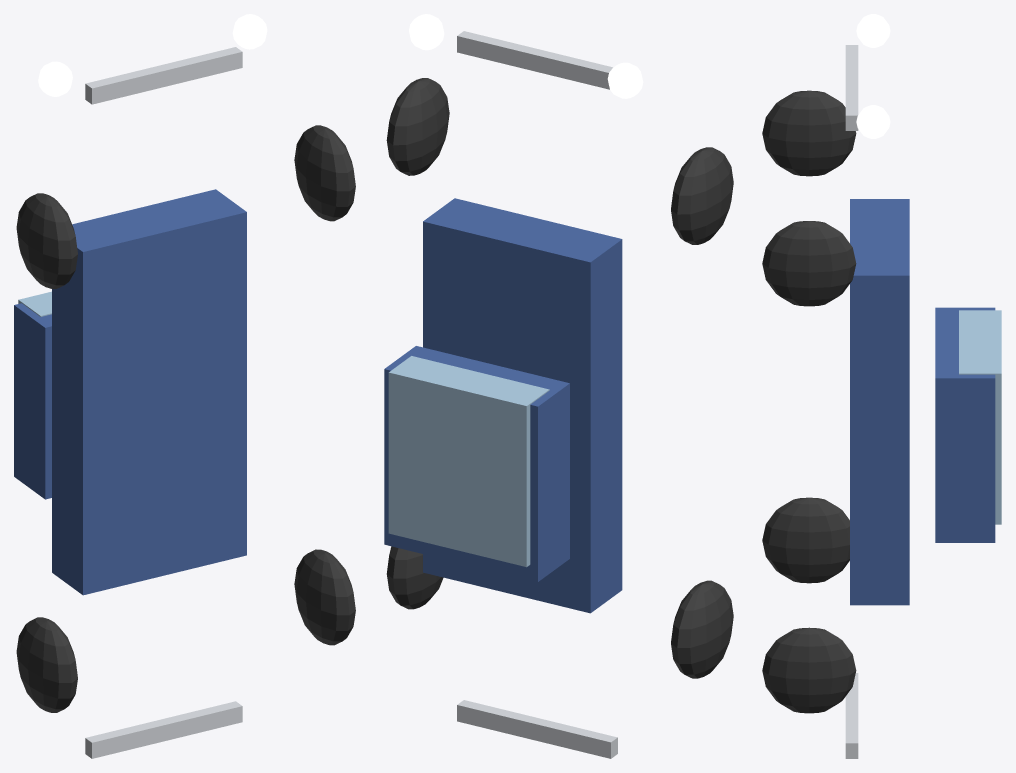
File: ford_anglia.glb
3 views of the same model, side by side, from view 1: azimuth 30°, elevation 25°; view 2: azimuth 150°, elevation 25°; view 3: azimuth 270°, elevation 25° (orthographic). The views are drawn at different scales.
Parts seen in each view (by area): view 1: body, cabin, tire_1_0, tire_1_1, tire_0_1, tire_0_0, bumper_r, bumper_f, lamp_1, lamp_0; view 2: body, glass, cabin, tire_0_0, tire_0_1, tire_1_1, bumper_r, bumper_f, tire_1_0, lamp_0, lamp_1; view 3: body, cabin, tire_1_0, tire_1_1, tire_0_1, tire_0_0, glass, bumper_f, bumper_r, lamp_0, lamp_1.
Part boxes in pixels (x1,y1,x2,y2): body: (52,189,246,595); cabin: (14,303,51,499); tire_1_0: (294,549,355,645); tire_1_1: (294,125,355,221); tire_0_1: (16,193,77,288); tire_0_0: (16,617,77,712); bumper_r: (85,701,242,758); bumper_f: (85,47,242,104); lamp_1: (232,14,267,49); lamp_0: (38,61,72,96); body: (423,198,622,613); glass: (388,356,549,567); cabin: (384,346,569,581); tire_0_0: (671,580,733,678); tire_0_1: (671,147,733,244); tire_1_1: (386,78,449,175); bumper_r: (457,700,617,758); bumper_f: (457,31,612,89); tire_1_0: (386,546,443,609); lamp_0: (607,62,643,98); lamp_1: (409,14,444,50); body: (850,199,909,605); cabin: (935,307,995,542); tire_1_0: (762,627,856,713); tire_1_1: (762,221,856,306); tire_0_1: (762,90,856,176); tire_0_0: (762,497,849,583); glass: (959,310,1001,524); bumper_f: (845,45,858,130); bumper_r: (845,673,858,758); lamp_0: (856,14,890,47); lamp_1: (856,105,890,138).
Bounding box in the file's own units: 1.64 × 3.42 × 1.12.
